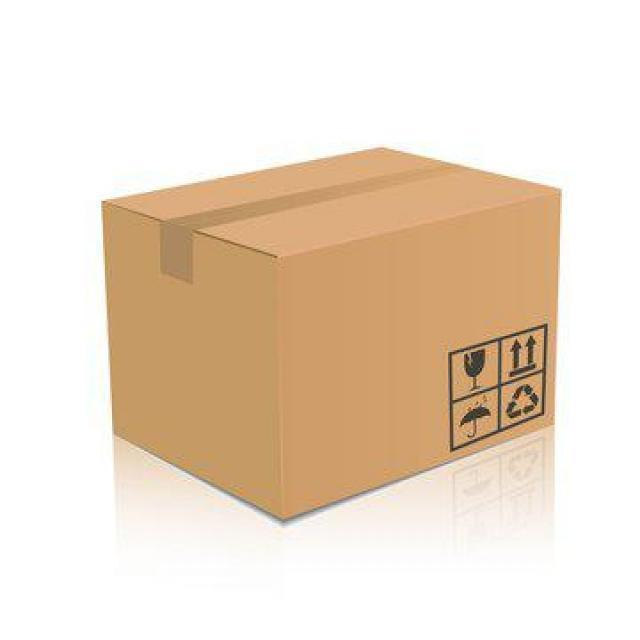box: (94, 138, 563, 527)
